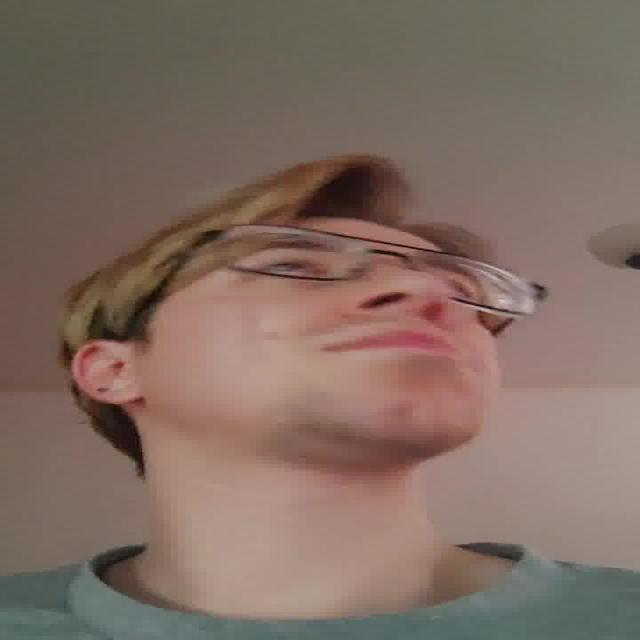earlobe: (74, 340, 144, 404)
